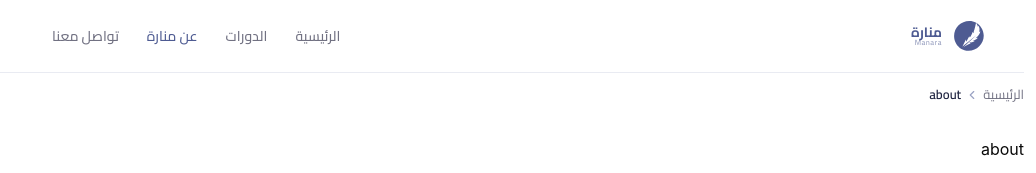
Scenario: returning to the landing page › stays one entry deep however many public pages the visitor tours
The width and height of the screenshot is (1036, 173).
Click the link "تواصل معنا" at (85, 36), box [52,22,119,48]
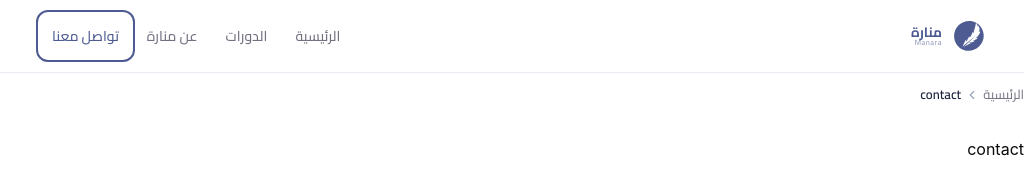
Expected: the 1st text "contact" is shown, [920,82,961,106]
Click the link "عن منارة" at (172, 36), box [147,22,198,48]
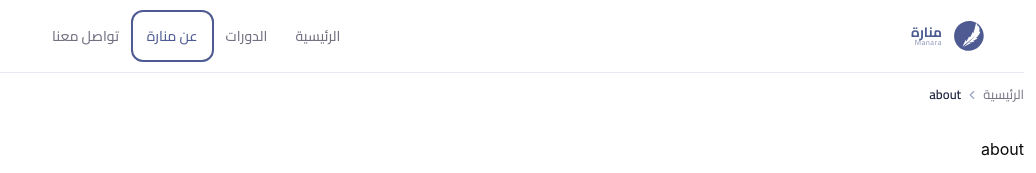
Expected: the 1st text "about" is shown, [929,82,961,106]
